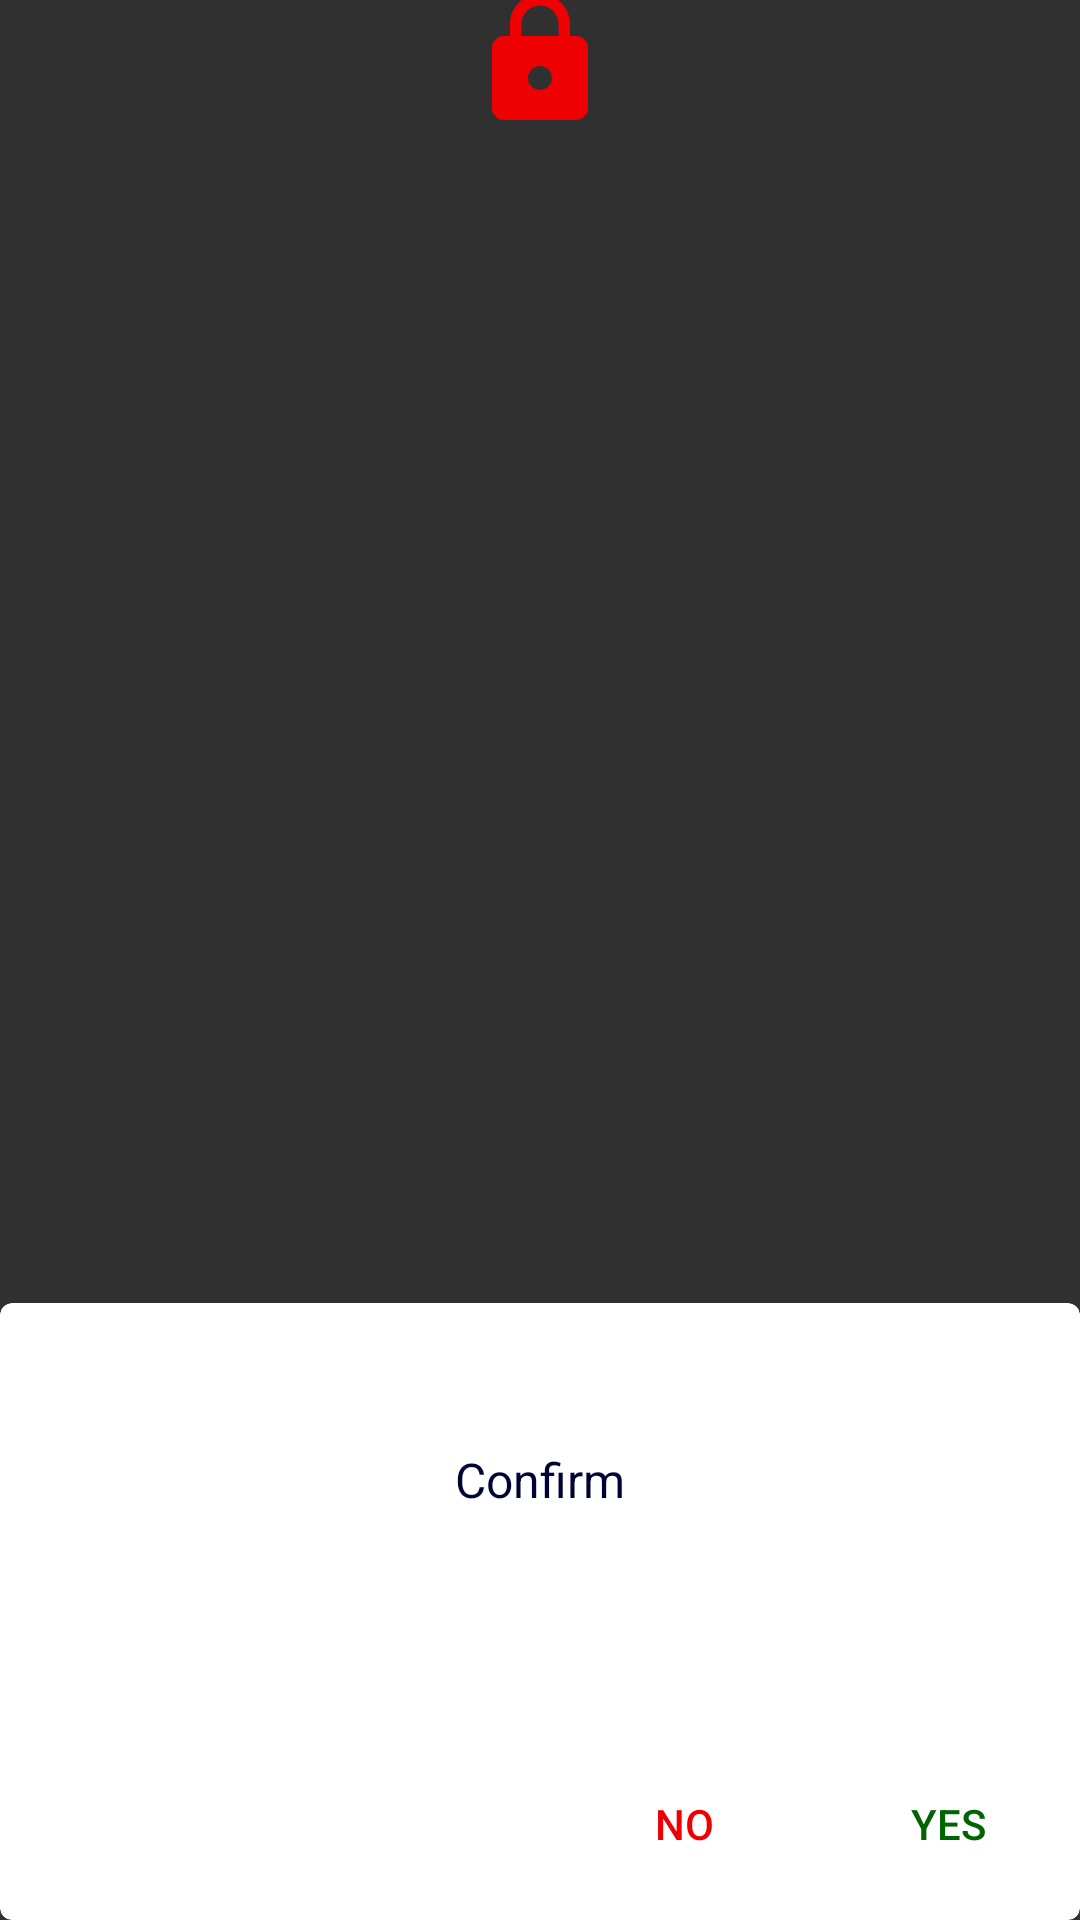

Icons on this 1080 × 1920 Android screen, each with the point to tap as (x=x, y=y):
lock: (x=540, y=60)
